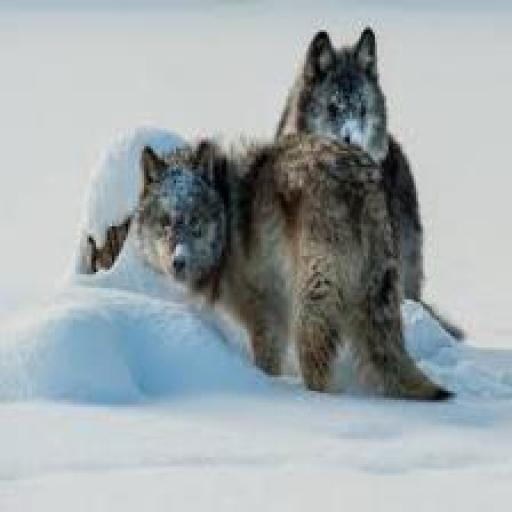wolf: (98, 105, 474, 432), (274, 34, 418, 161)
